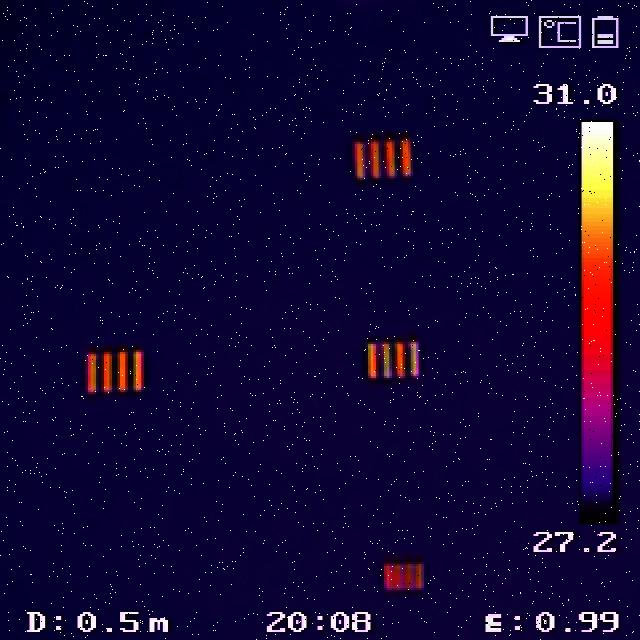Distinguishable 4-bar target: (347, 136, 417, 181), (82, 351, 146, 395), (364, 340, 423, 380)
threshold 4-bar target: (381, 563, 427, 592)
